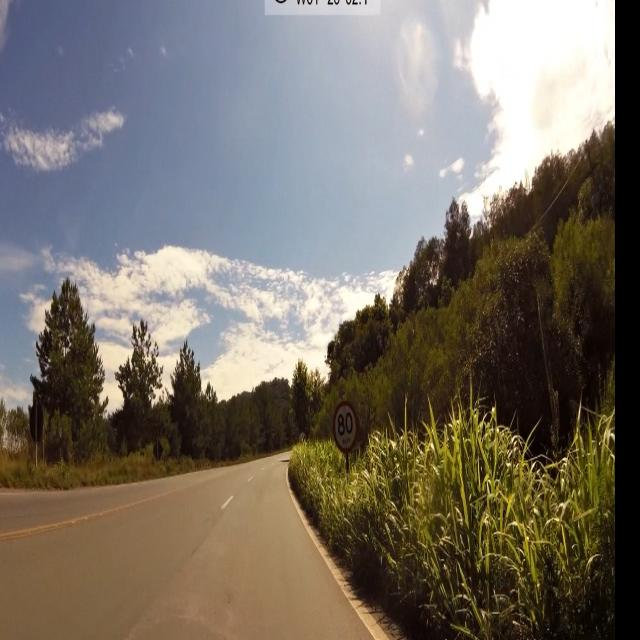R-19: (331, 400, 361, 460)
